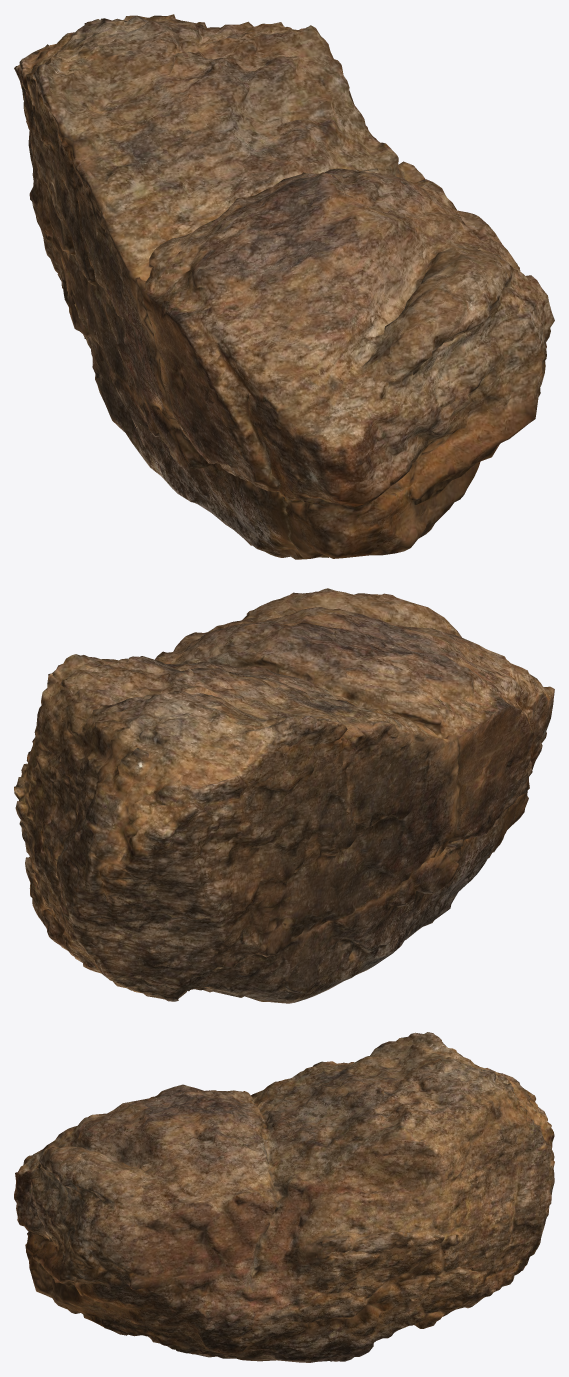
Rendered from namaqualand_boulder_06.glb.
The picture shows the model from 3 angles, top to bottom: view 1: azimuth 30°, elevation 25°; view 2: azimuth 150°, elevation 25°; view 3: azimuth 270°, elevation 25°; orthographic projection. The views are drawn at different scales.
Parts seen in each view (by area): view 1: namaqualand_boulder_06; view 2: namaqualand_boulder_06; view 3: namaqualand_boulder_06.
Boxes of the visible parts, x1,y1,x2,y2 form: namaqualand_boulder_06: (14, 14, 554, 559); namaqualand_boulder_06: (14, 588, 554, 1003); namaqualand_boulder_06: (14, 1032, 554, 1362).
Bounding box in the file's own units: 0.6747 × 0.6516 × 1.21.
Materials: 1 (1 with a texture image).
